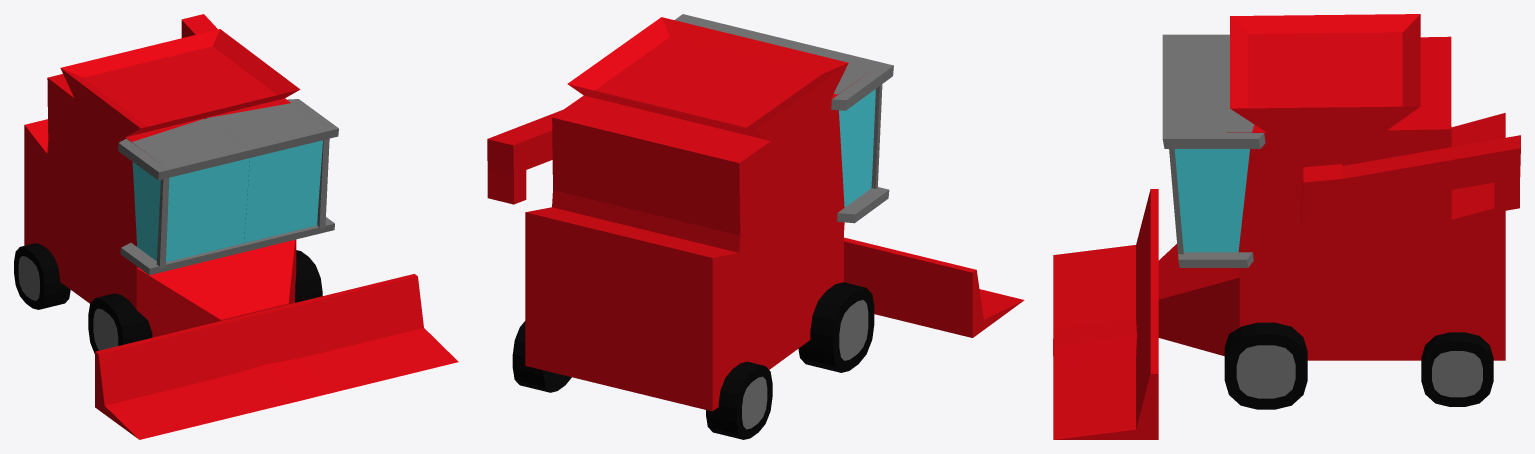
The model's file is obj_harvester.fbx.
3 renders of one model, left to right at view 1: azimuth 30°, elevation 25°; view 2: azimuth 150°, elevation 25°; view 3: azimuth 270°, elevation 25°, orthographic. The views are drawn at different scales.
Parts seen in each view (by area): view 1: Obj_Harvester; view 2: Obj_Harvester; view 3: Obj_Harvester.
Boxes of the visible parts, box(x1,y1,x2,y2) form: Obj_Harvester: box(14, 14, 458, 439); Obj_Harvester: box(487, 14, 1024, 439); Obj_Harvester: box(1053, 14, 1520, 439).
Size of the model in its own units: 396 by 292 by 424.
